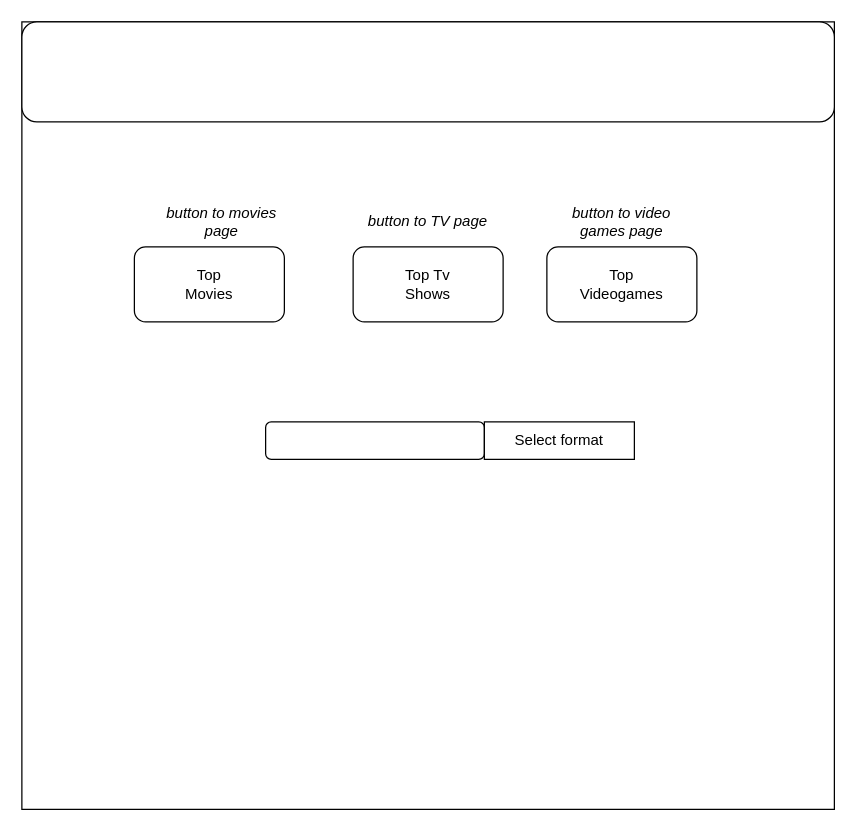
Some shapes in this 856 by 831 pixel diagram are drawn without their labels. Each missing label, with the centre of its shape:
"RatingsSite" goes at point (427, 71).
"Search" goes at point (374, 440).
